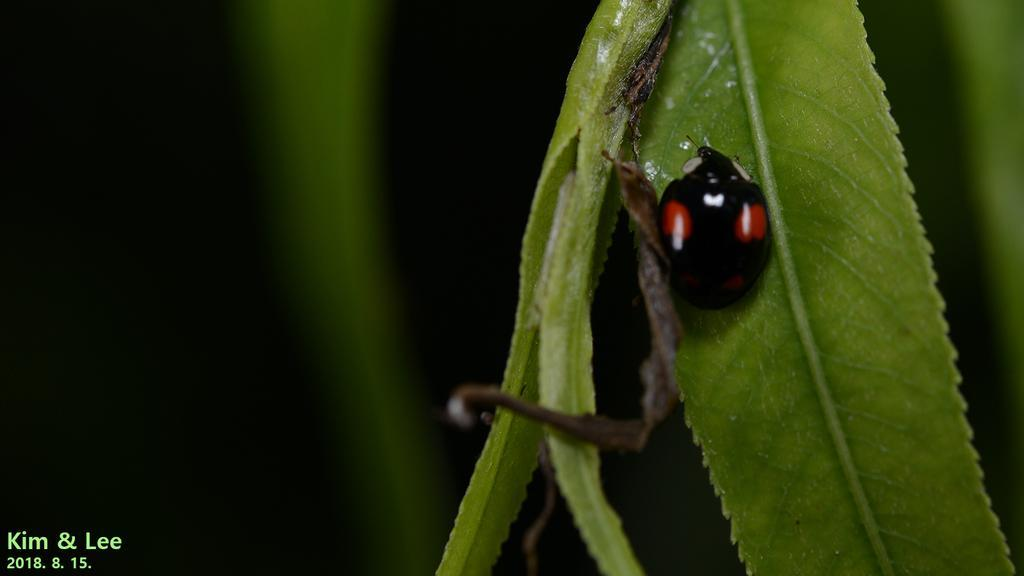ladybug: (653, 133, 779, 316)
